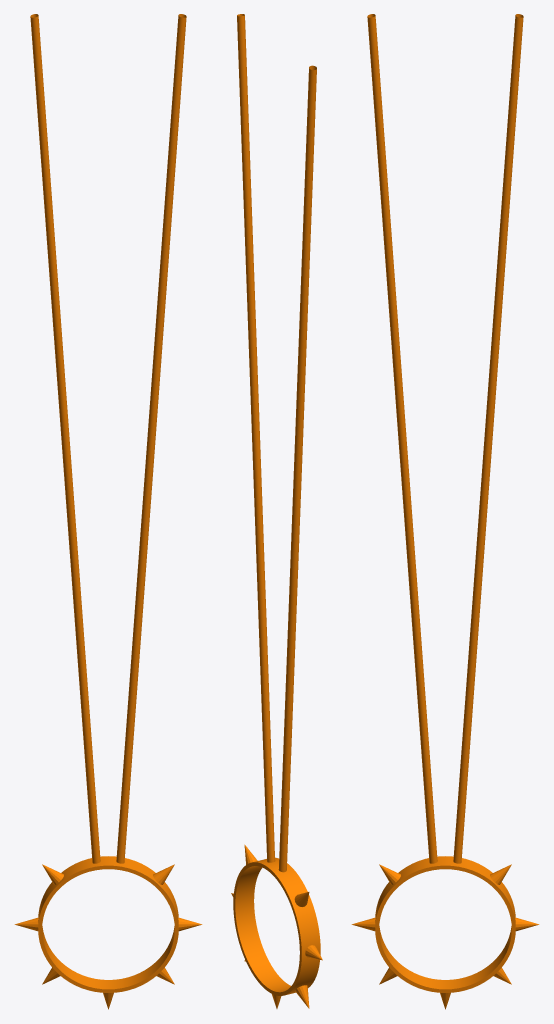
The model's file is cutter6_circle.fbx.
The picture shows the model from 3 angles, left to right: view 1: azimuth 90°, elevation 25°; view 2: azimuth 210°, elevation 25°; view 3: azimuth 270°, elevation 25°; orthographic projection. The views are drawn at different scales.
Visible parts, largest first — view 1: Cutter6_Circle; view 2: Cutter6_Circle; view 3: Cutter6_Circle.
Part boxes in pixels (x1,y1,x2,y2): Cutter6_Circle: (14, 14, 202, 1009); Cutter6_Circle: (231, 14, 322, 1008); Cutter6_Circle: (351, 14, 539, 1009).
Size of the model in its own units: 16.84 by 827 by 142.
